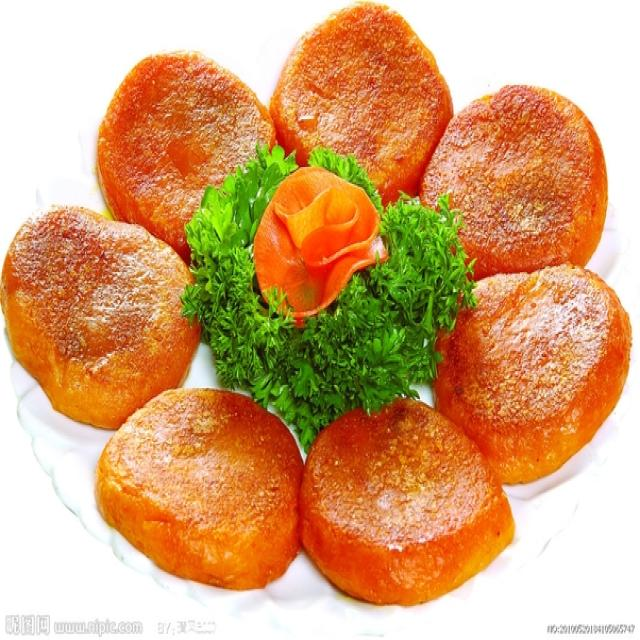炸货点心: (9, 23, 636, 612)
蛋糕甜品: (9, 23, 636, 612)
